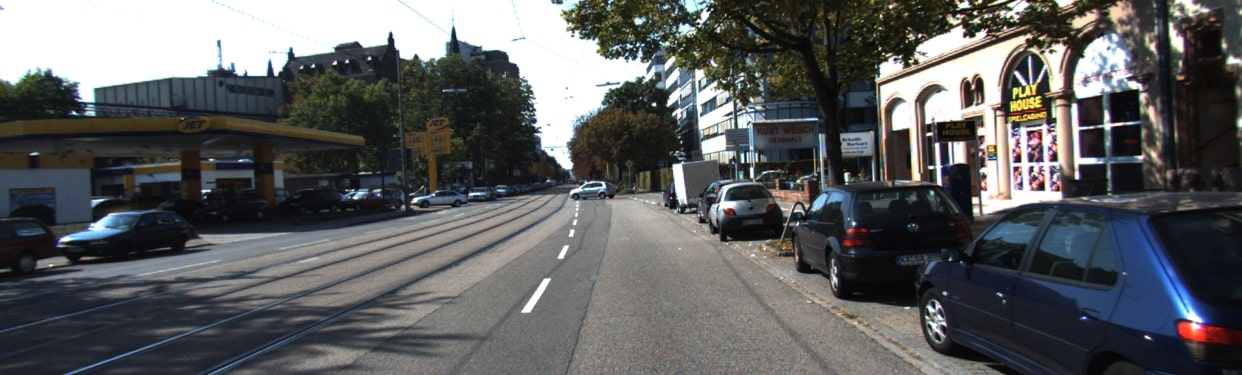car: (911, 207, 1242, 368), (785, 185, 984, 305), (51, 210, 213, 258), (698, 179, 782, 246), (413, 185, 472, 213), (563, 174, 616, 201), (468, 183, 497, 200)
